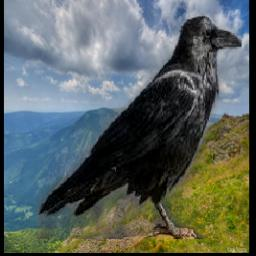Crow: (36, 14, 242, 239)
